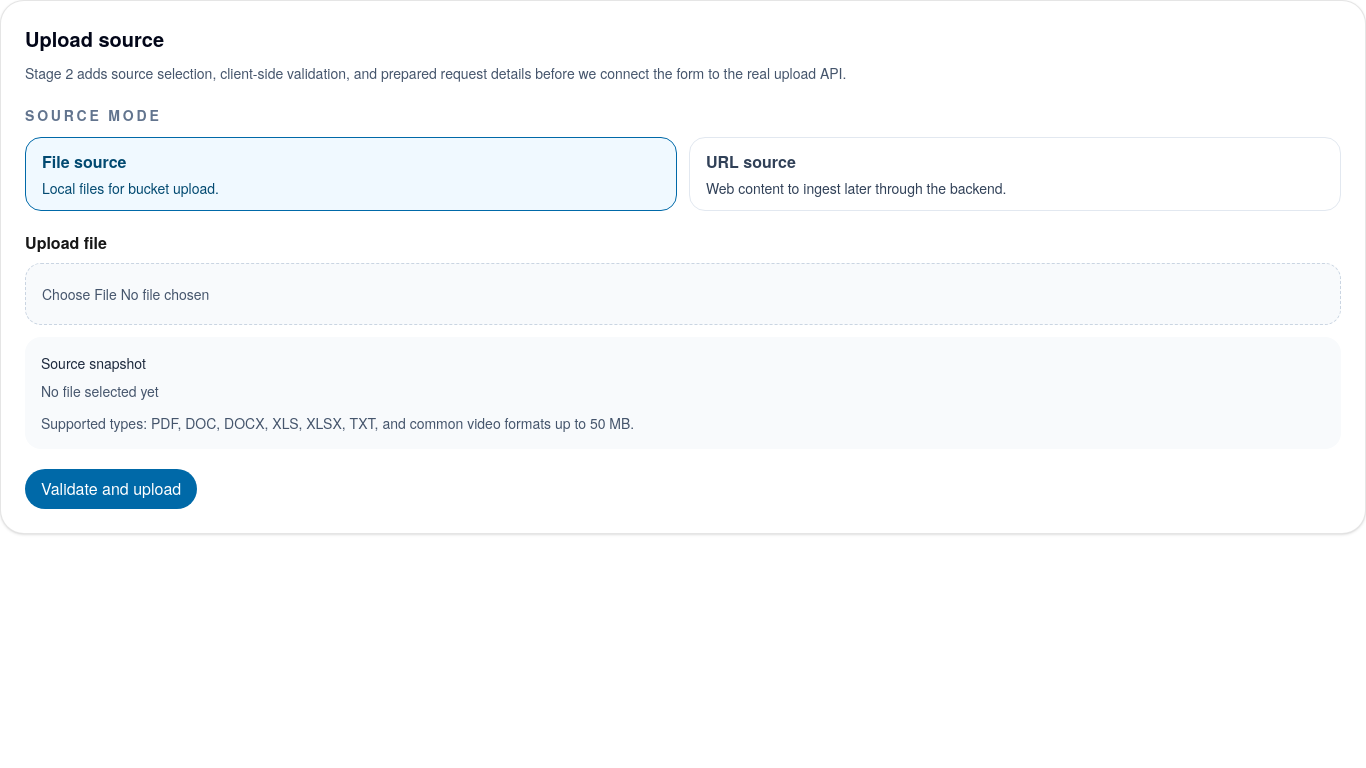
Test: UploadForm › shows a validation error for an invalid url source
Click the button "URL source Web content to ingest later through the backend." at {"x": 751, "y": 162}, box x1=689 y1=137 x2=1341 y2=211
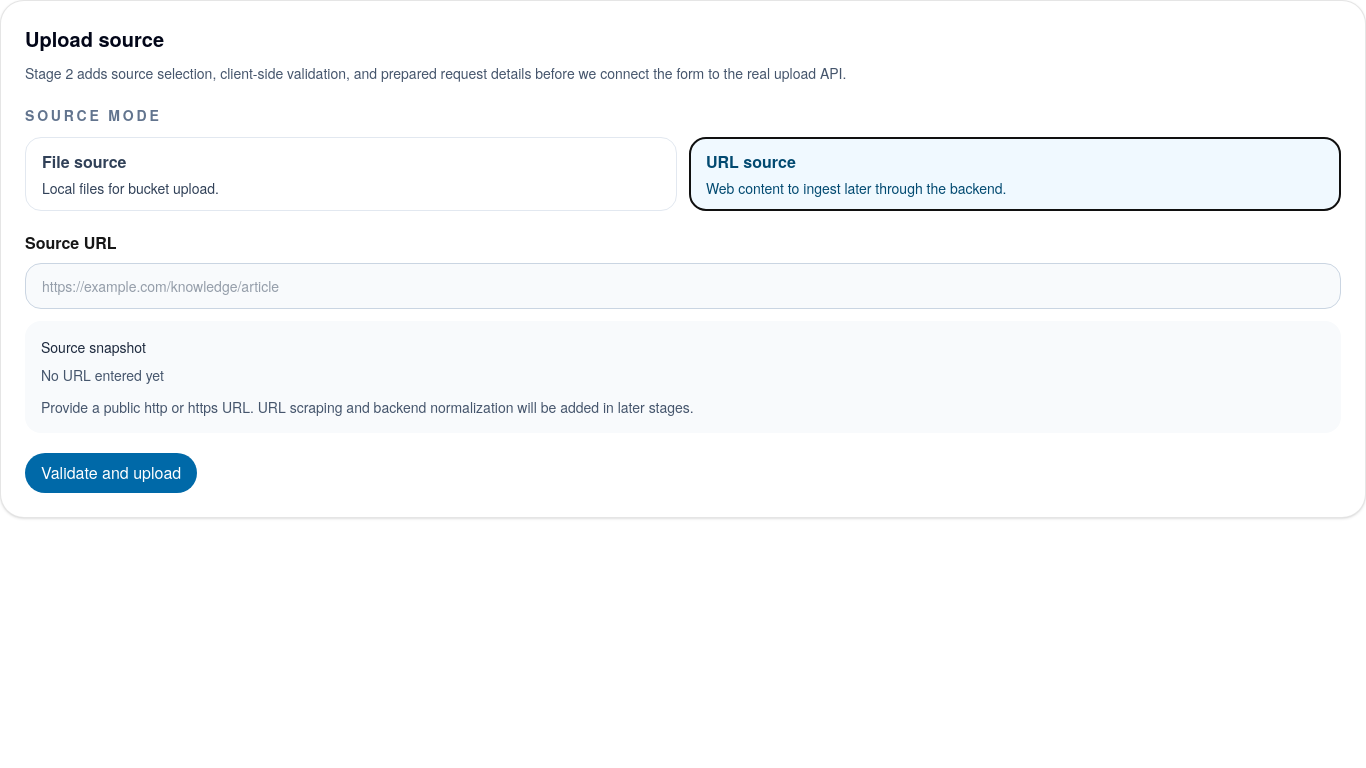
Type "notaurl" into the field labelled "Source URL" at {"x": 683, "y": 286}, box x1=25 y1=263 x2=1341 y2=309
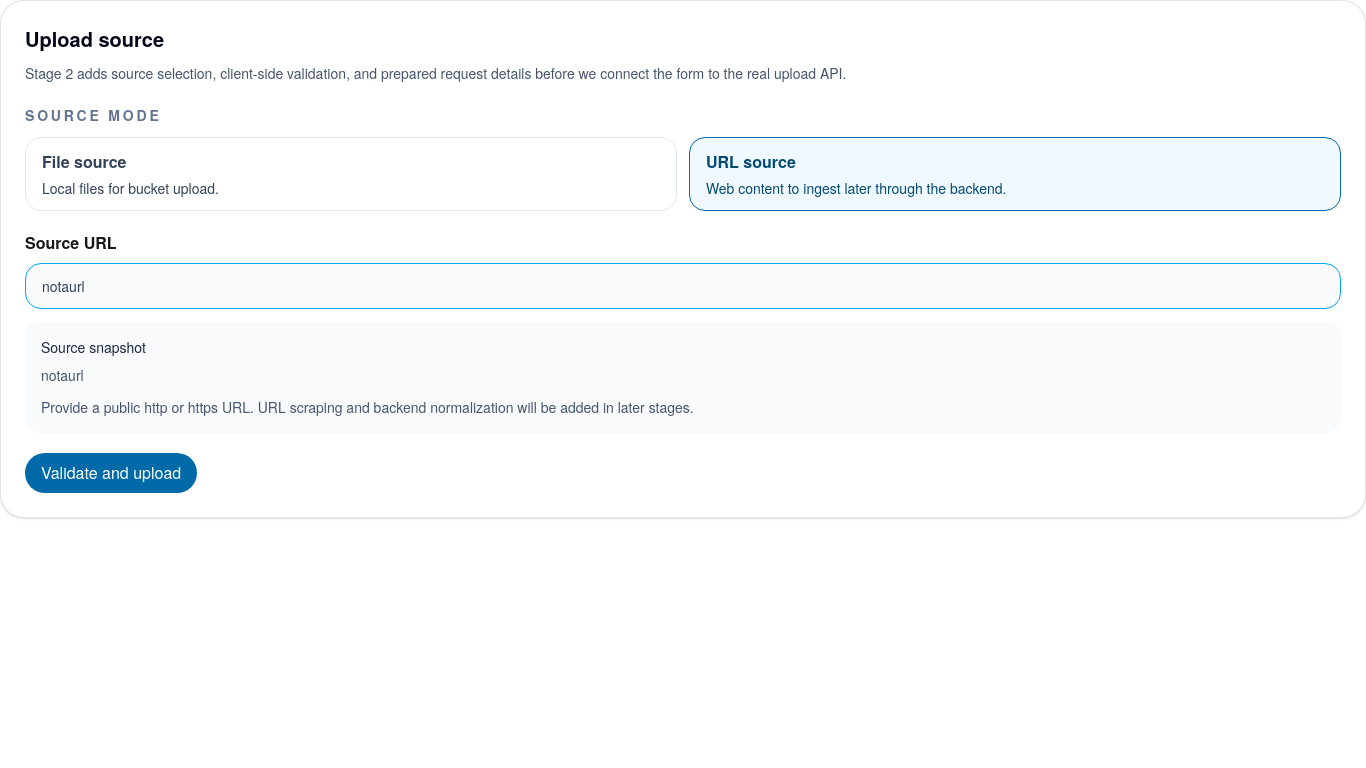
Click the button "Validate and upload" at {"x": 111, "y": 473}, box x1=25 y1=453 x2=197 y2=493
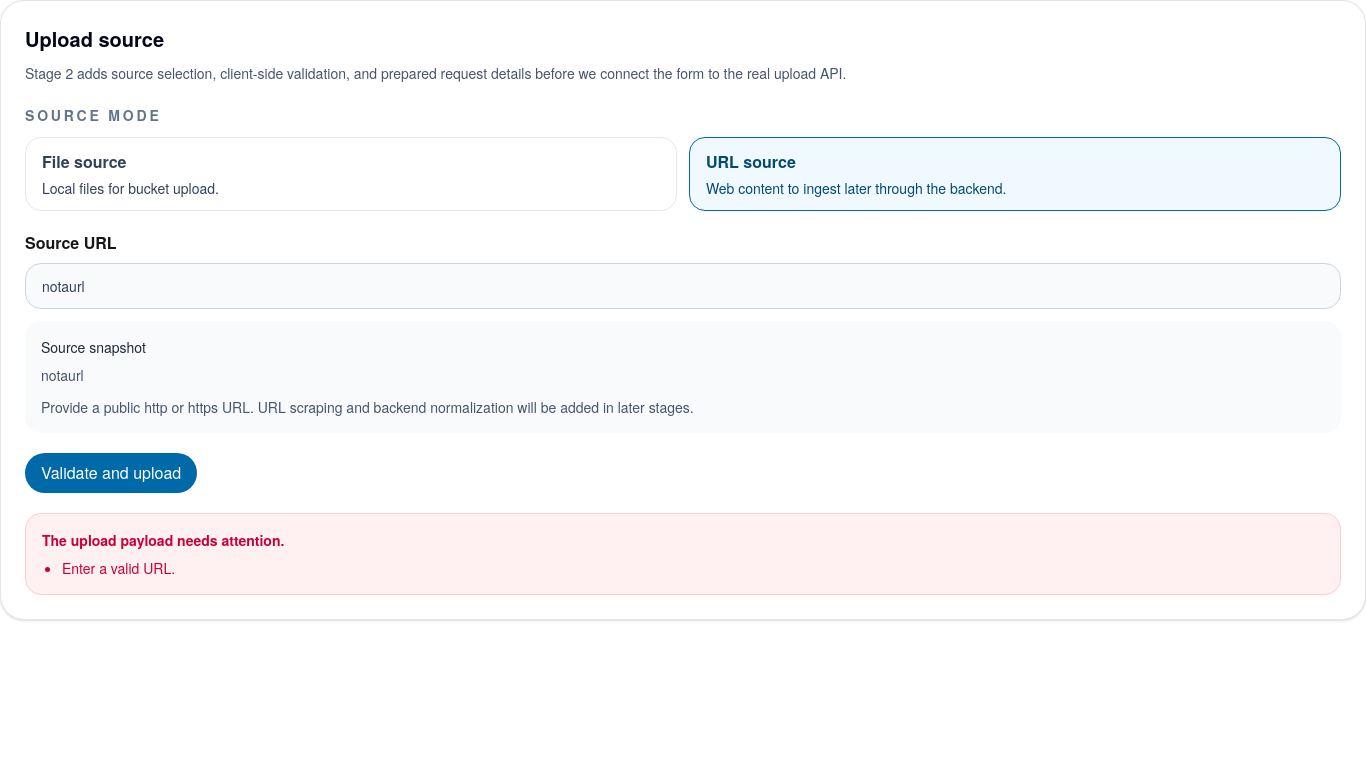
Result: the message shows "Enter a valid URL" at x1=62 y1=558 x2=175 y2=578
